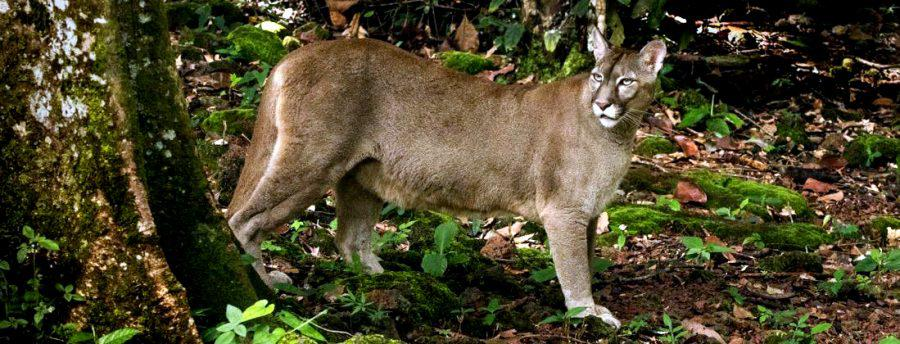OncaParda: (220, 21, 685, 334)
